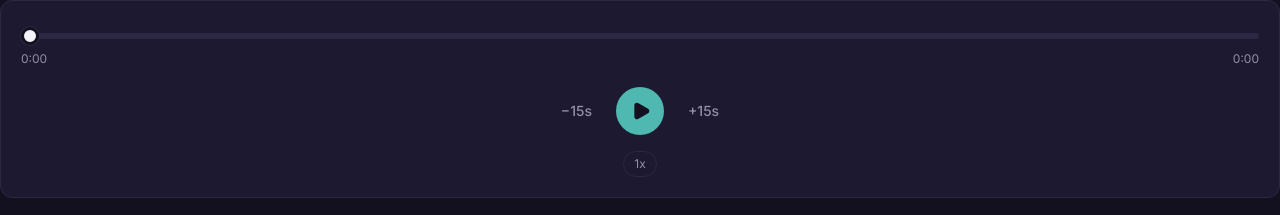
AudioPlayer › cicla a velocidade ao clicar no botão de velocidade
Click the button "1x". click: (640, 164)
box: [623,151,657,177]
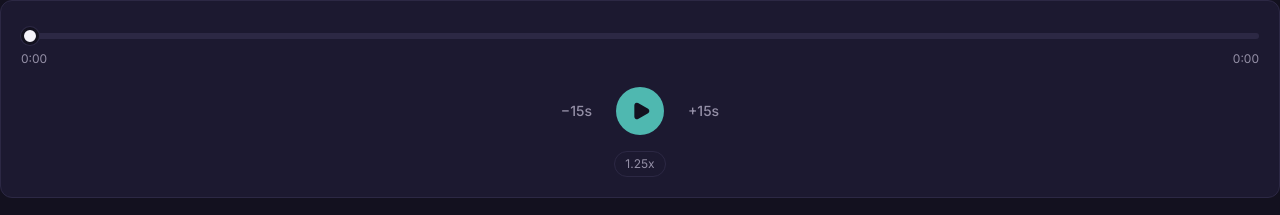
Expected: the button "1.25x" is shown, [614,151,666,177]
